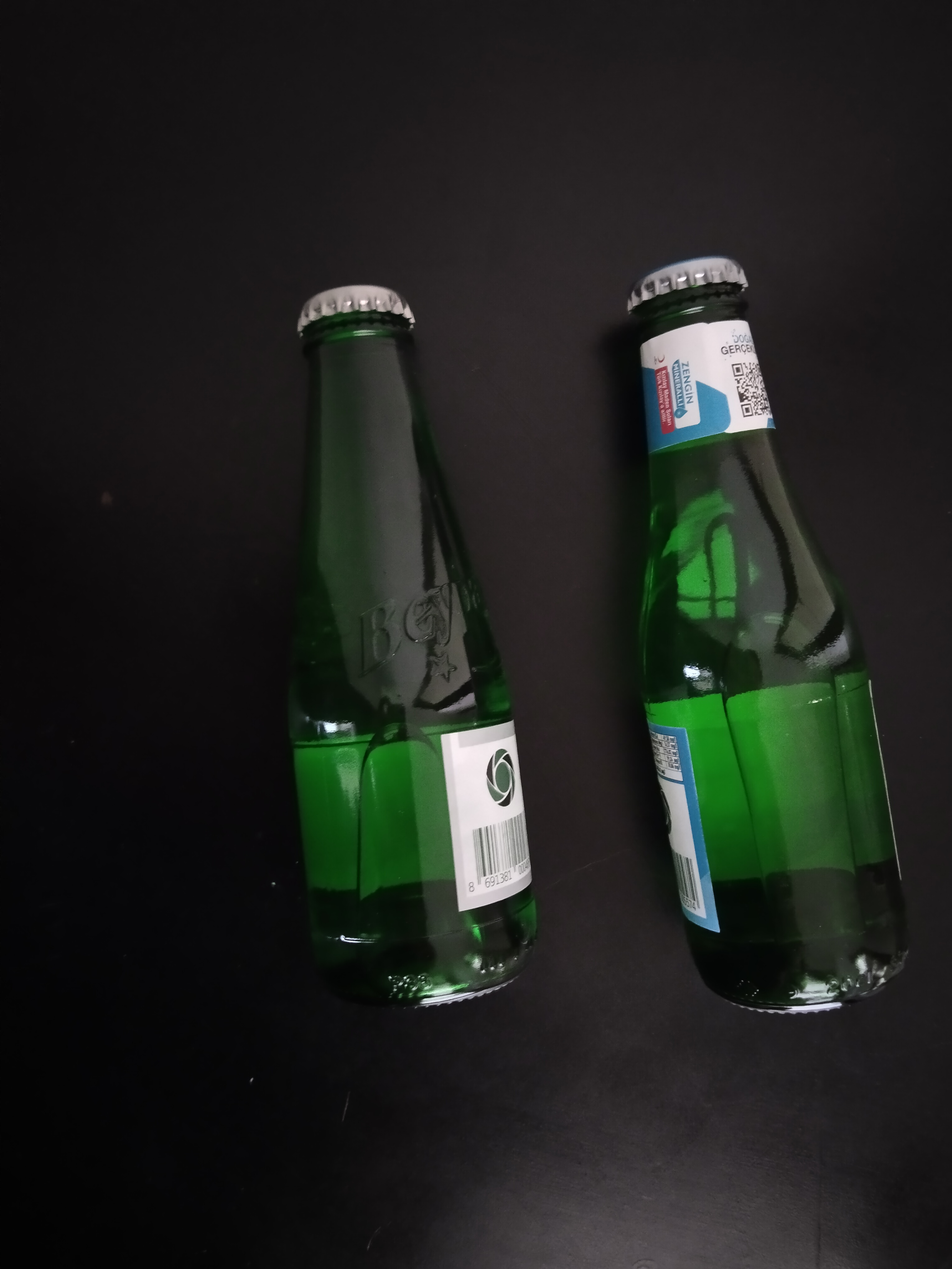beypazari_maden_suyu: (290, 281, 534, 1004)
kizilay_maden_suyu: (623, 249, 916, 1017)
